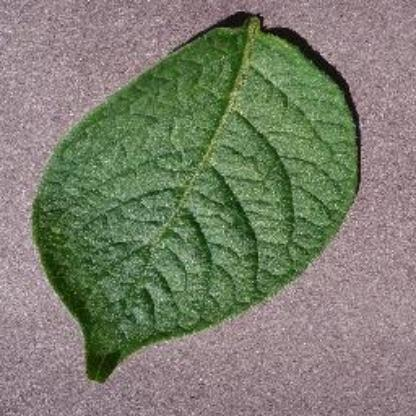Healthy-plant: (30, 18, 376, 396)
